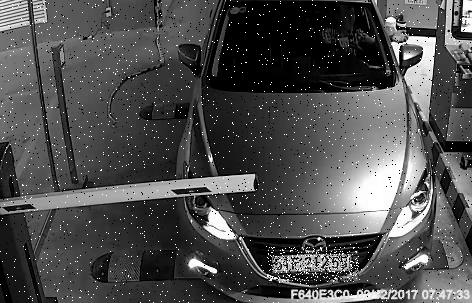License-plate: (270, 249, 361, 284)
